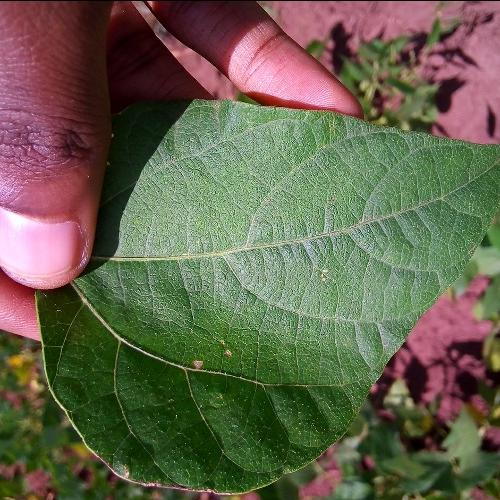sehat: (100, 99, 381, 450)
